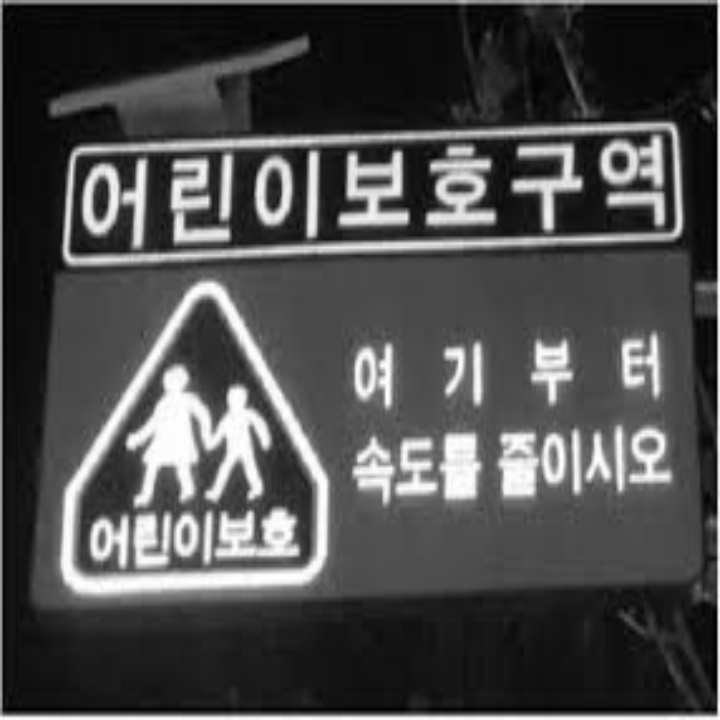child: (116, 353, 276, 503)
